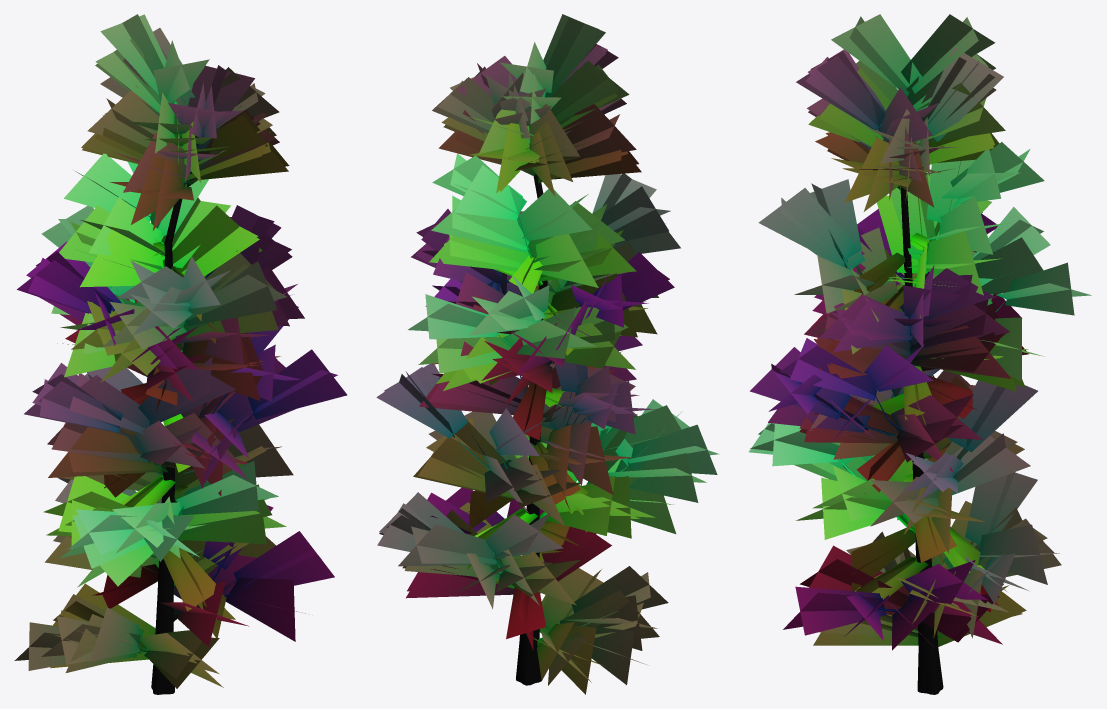
Rendered from M_Realistic21_9.fbx.
The picture shows the model from 3 angles, left to right: view 1: azimuth 30°, elevation 25°; view 2: azimuth 150°, elevation 25°; view 3: azimuth 270°, elevation 25°; orthographic projection. The views are drawn at different scales.
Parts seen in each view (by area): view 1: Tree_9; view 2: Tree_9; view 3: Tree_9.
Boxes of the visible parts, box(x1,y1,x2,y2) form: Tree_9: box(14, 14, 347, 694); Tree_9: box(376, 14, 719, 694); Tree_9: box(749, 14, 1091, 694).
Size of the model in its own units: 1094 by 2423 by 1131.
